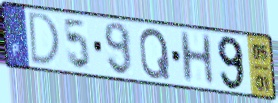5: (61, 16, 91, 70)
9: (215, 35, 248, 92), (103, 20, 133, 79)
D: (27, 10, 62, 67)
H: (177, 29, 217, 86)
Q: (138, 26, 172, 81)
